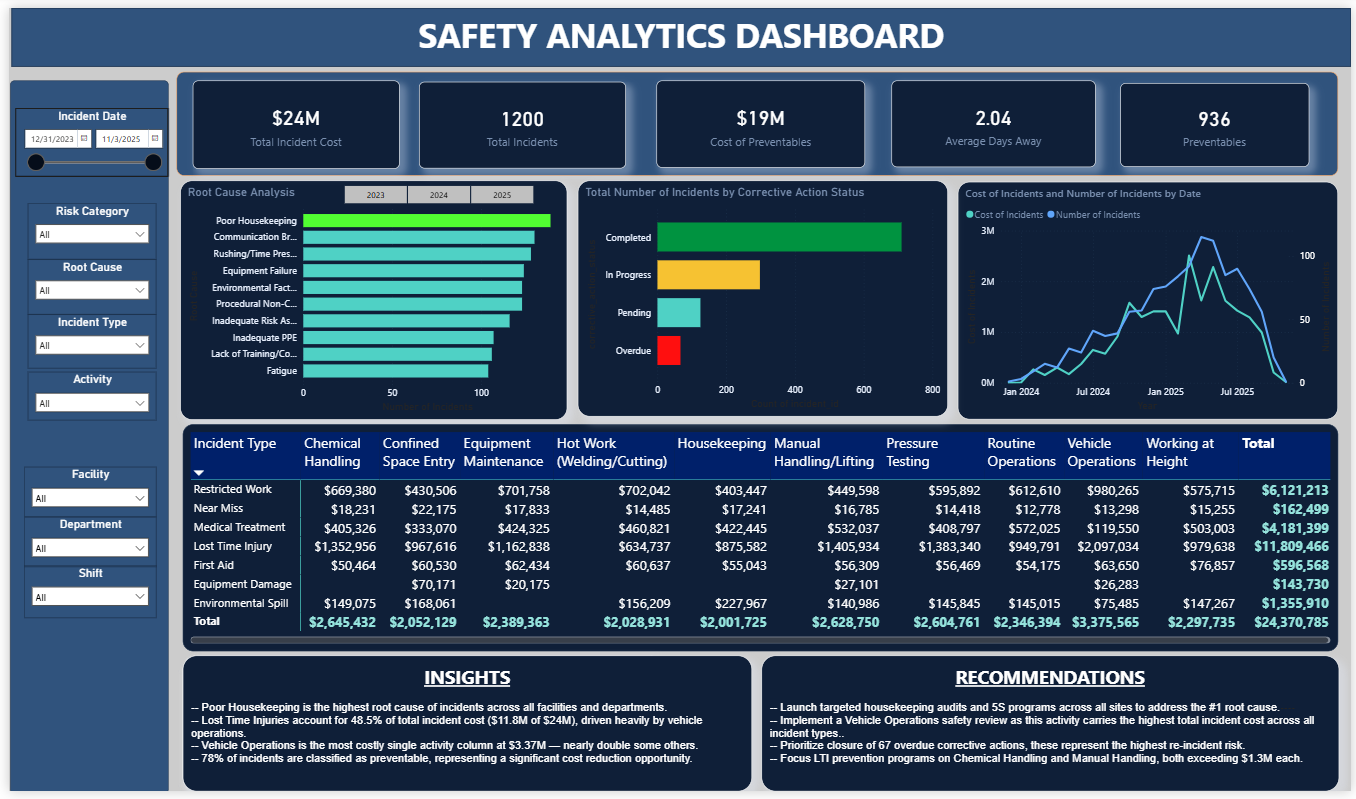

The page's visual inventory and layout, read from the dashboard file:
{"tool":"powerbi","page":{"name":"Page 2","canvas":[1920,1120],"ordinal":1},"visuals":[{"type":"clusteredBarChart","title":"Root Cause Analysis","fields":{"Category":["hse_incident_data_analysis.root_cause"],"Y":["CountNonNull(hse_incident_data_analysis.incident_id)"]},"box":[244.6,246.3,554,342.3],"z":0},{"type":"lineChart","title":"Cost of Incidents and Number of Incidents by Date","fields":{"Y":["Sum(hse_incident_data_analysis. total_incident_cost_usd )"],"Category":["hse_incident_data_analysis.incident_date.Variation.Date Hierarchy.Year","hse_incident_data_analysis.incident_date.Variation.Date Hierarchy.Month"],"Y2":["CountNonNull(hse_incident_data_analysis.incident_id)"]},"box":[1357.1,248.1,544,339.7],"z":1000},{"type":"pivotTable","fields":{"Rows":["hse_incident_data_analysis.incident_type"],"Values":["Sum(hse_incident_data_analysis. total_cost_with_fines_usd )"],"Columns":["hse_incident_data_analysis.activity"]},"box":[248.1,595.5,1652.9,324.5],"z":2000},{"type":"clusteredBarChart","title":"Total Number of Incidents by Corrective Action Status","fields":{"Category":["hse_incident_data_analysis.corrective_action_status"],"Y":["CountNonNull(hse_incident_data_analysis.incident_id)"]},"box":[813.6,246.7,529.3,337.9],"z":3000},{"type":"textbox","box":[3.2,0,1916.1,83.9],"z":4000},{"type":"textbox","box":[1.8,103.1,226.4,1019.6],"z":5000},{"type":"slicer","title":"Root Cause","fields":{"Values":["hse_incident_data_analysis.root_cause"]},"box":[27.2,359.6,184.1,79.1],"z":6000},{"type":"slicer","title":"Activity","fields":{"Values":["hse_incident_data_analysis.activity"]},"box":[27.2,519.8,184.1,69.9],"z":7000},{"type":"slicer","title":"Facility","fields":{"Values":["hse_incident_data_analysis.facility"]},"box":[21.7,656,189.6,71.8],"z":8000},{"type":"slicer","title":"Risk Category","fields":{"Values":["hse_incident_data_analysis.risk_category"]},"box":[27.2,278.7,184.1,81],"z":9000},{"type":"slicer","title":"Incident Date","fields":{"Values":["hse_incident_data_analysis.incident_date"]},"box":[9.2,143.6,219,97.5],"z":10000},{"type":"slicer","title":"Incident Type","fields":{"Values":["hse_incident_data_analysis.incident_type"]},"box":[27.2,438.8,184.1,77.3],"z":11000},{"type":"slicer","title":"Shift","fields":{"Values":["hse_incident_data_analysis.shift"]},"box":[21.7,797.7,189.6,75.5],"z":12000},{"type":"slicer","title":"Department","fields":{"Values":["hse_incident_data_analysis.department"]},"box":[21.7,727.7,189.6,71.8],"z":13000},{"type":"textbox","box":[239.3,92,1662,149.1],"z":14000},{"type":"card","fields":{"Values":["Sum(hse_incident_data_analysis. total_cost_with_fines_usd )"]},"box":[262.4,103.4,296,126],"z":15000},{"type":"card","fields":{"Values":["Sum(summary_monthly_trends.total_incidents)"]},"box":[586.4,105.4,296,124],"z":16000},{"type":"card","fields":{"Values":["Sum(hse_incident_data_analysis. is_preventable_cost )"]},"box":[926.2,103.7,298.6,125.2],"z":17000},{"type":"card","fields":{"Values":["Avg(hse_incident_data_analysis.days_away)"]},"box":[1262.4,103.4,292,124],"z":18000},{"type":"card","fields":{"Values":["Sum(hse_incident_data_analysis.preventable)"]},"box":[1590.4,107.4,270,120],"z":19000},{"type":"textbox","box":[248.1,925.7,687.1,194.7],"z":20000},{"type":"slicer","fields":{"Values":["hse_incident_data_analysis.year"]},"box":[459.5,252.1,309.3,34],"z":21000},{"type":"textbox","box":[248,926,814,194],"z":22000},{"type":"textbox","box":[1076,926,826,194],"z":23000},{"type":"slicer","title":"Preventables","fields":{"Values":["hse_incident_data_analysis.prevention_score"]},"box":[19.7,919.1,189.5,71.5],"z":24000}]}

Visuals, with their boxes in screenshot pixels (x1, y1, x2, y2), scaled from the page's 1920x1120 canvas onto the 1356x799 screenshot:
"Root Cause Analysis" clusteredBarChart: BBox(173, 176, 564, 420)
"Cost of Incidents and Number of Incidents by Date" lineChart: BBox(958, 177, 1343, 419)
pivotTable - hse_incident_data_analysis.incident_type x Sum(hse_incident_data_analysis. total_cost_with_fines_usd ): BBox(175, 425, 1343, 656)
"Total Number of Incidents by Corrective Action Status" clusteredBarChart: BBox(575, 176, 948, 417)
textbox: BBox(2, 0, 1355, 60)
textbox: BBox(1, 74, 161, 798)
"Root Cause" slicer: BBox(19, 257, 149, 313)
"Activity" slicer: BBox(19, 371, 149, 421)
"Facility" slicer: BBox(15, 468, 149, 519)
"Risk Category" slicer: BBox(19, 199, 149, 257)
"Incident Date" slicer: BBox(6, 102, 161, 172)
"Incident Type" slicer: BBox(19, 313, 149, 368)
"Shift" slicer: BBox(15, 569, 149, 623)
"Department" slicer: BBox(15, 519, 149, 570)
textbox: BBox(169, 66, 1343, 172)
card - Sum(hse_incident_data_analysis. total_cost_with_fines_usd ): BBox(185, 74, 394, 164)
card - Sum(summary_monthly_trends.total_incidents): BBox(414, 75, 623, 164)
card - Sum(hse_incident_data_analysis. is_preventable_cost ): BBox(654, 74, 865, 163)
card - Avg(hse_incident_data_analysis.days_away): BBox(892, 74, 1098, 162)
card - Sum(hse_incident_data_analysis.preventable): BBox(1123, 77, 1314, 162)
textbox: BBox(175, 660, 660, 798)
slicer - hse_incident_data_analysis.year: BBox(325, 180, 543, 204)
textbox: BBox(175, 661, 750, 798)
textbox: BBox(760, 661, 1343, 798)
"Preventables" slicer: BBox(14, 656, 148, 707)
